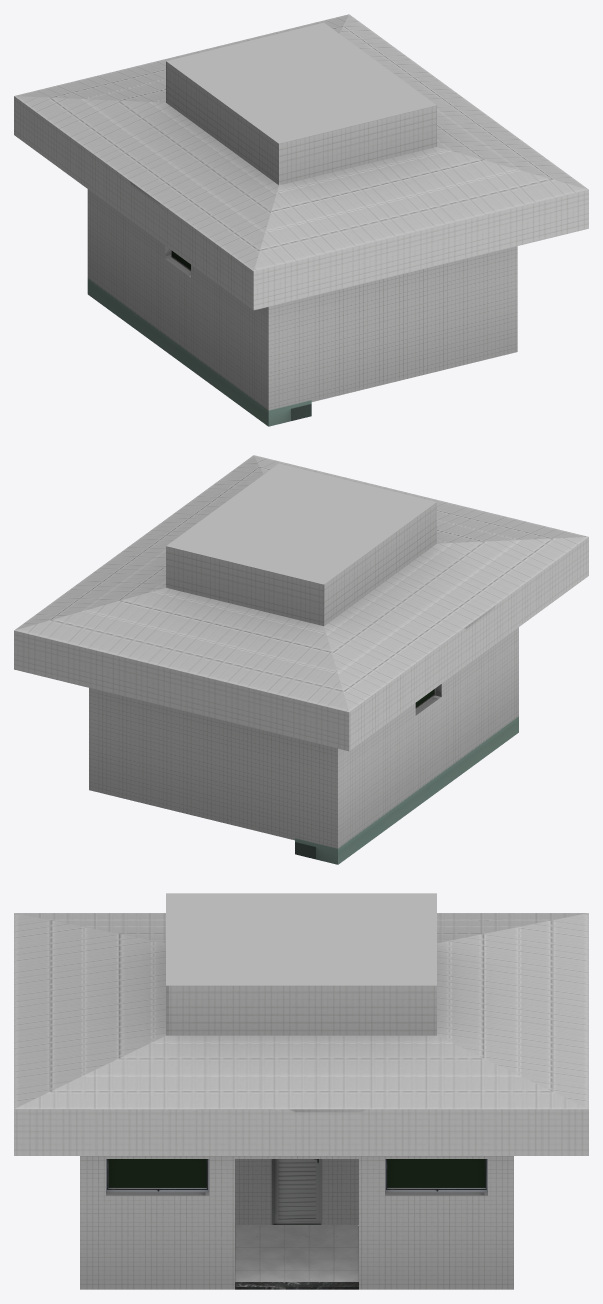
File: BanheiroOrla.fbx
The picture shows the model from 3 angles, top to bottom: view 1: azimuth 30°, elevation 25°; view 2: azimuth 150°, elevation 25°; view 3: azimuth 270°, elevation 25°; orthographic projection. The views are drawn at different scales.
Visible parts, largest first — view 1: banheiro; view 2: banheiro; view 3: banheiro.
Boxes of the visible parts, left/top/right/bottom form: banheiro: left=14, top=14, right=588, bottom=426; banheiro: left=14, top=455, right=588, bottom=864; banheiro: left=14, top=893, right=588, bottom=1289.
Size of the model in its own units: 658 by 461 by 815.
